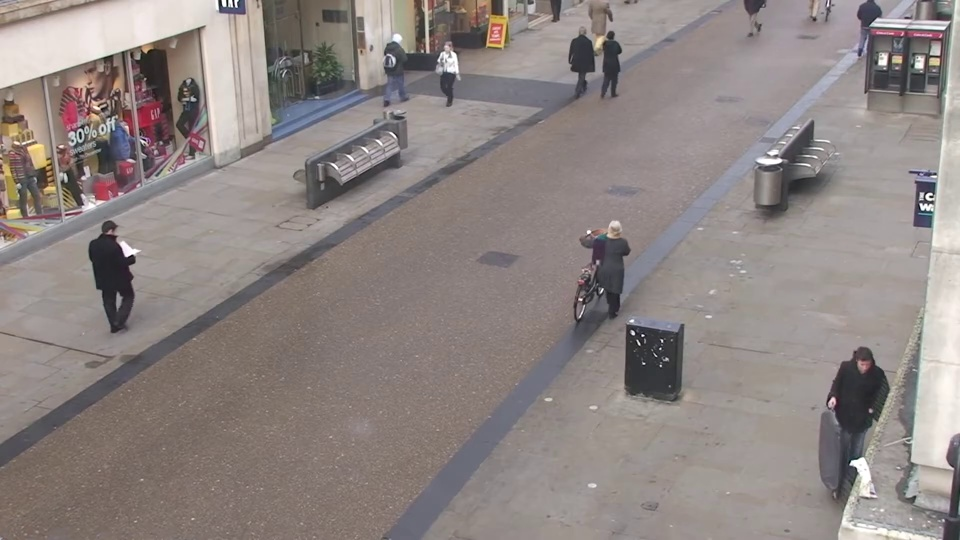pedestrian: (825, 352, 885, 513), (99, 212, 150, 330), (597, 212, 636, 334), (432, 42, 459, 117), (391, 27, 417, 98), (602, 26, 626, 97), (574, 20, 597, 89)
